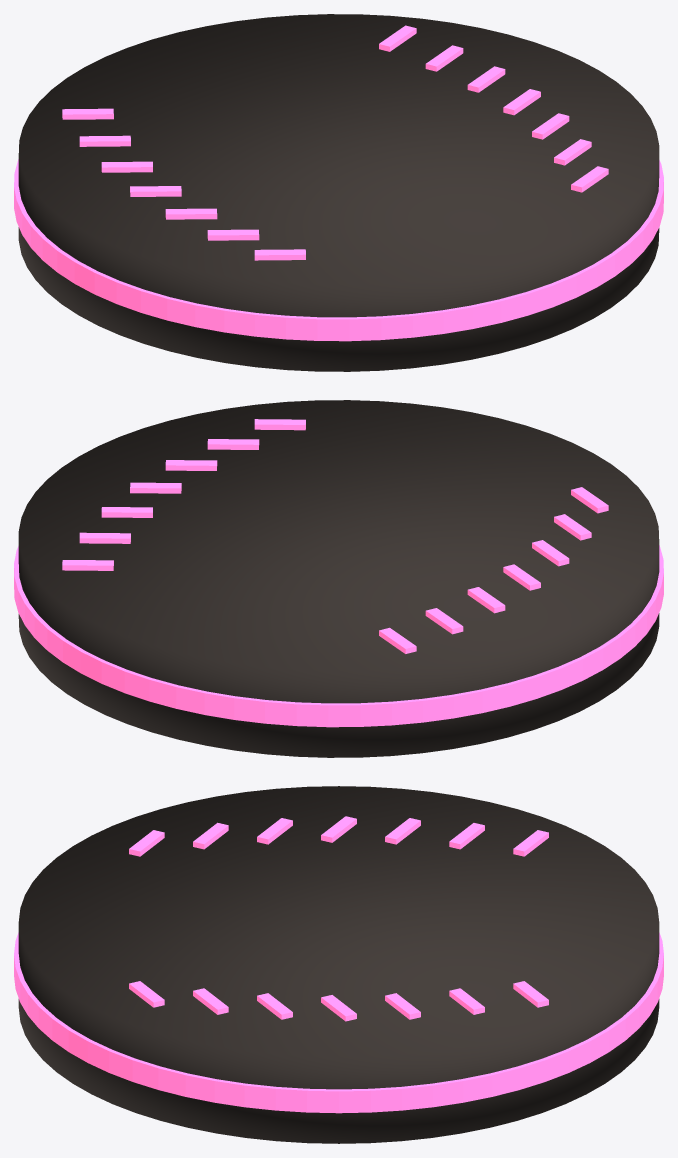
The model's file is disco_cyber_baseball.glb.
3 renders of one model, top to bottom at view 1: azimuth 30°, elevation 25°; view 2: azimuth 150°, elevation 25°; view 3: azimuth 270°, elevation 25°, orthographic.
Visible parts, largest first — view 1: Cylinder, Cylinder.001, Cube.002, Cube.001, Cube, Cube.004, Cube.006, Cube.005, Cube.003; view 2: Cylinder, Cylinder.001, Cube.010, Cube.007, Cube.012, Cube.008, Cube.009, Cube.013, Cube.011; view 3: Cylinder, Cylinder.001.
Part boxes in pixels (x1,y1,x2,y2): Cylinder: [18, 14, 659, 371]; Cylinder.001: [14, 159, 663, 341]; Cube.002: [165, 208, 217, 219]; Cube.001: [207, 229, 259, 240]; Cube: [254, 249, 305, 260]; Cube.004: [101, 161, 152, 172]; Cube.006: [62, 108, 113, 119]; Cube.005: [79, 135, 130, 146]; Cube.003: [130, 186, 181, 196]; Cylinder: [18, 400, 659, 757]; Cylinder.001: [14, 545, 663, 727]; Cube.010: [130, 482, 181, 493]; Cube.007: [254, 419, 305, 430]; Cube.012: [79, 532, 130, 543]; Cube.008: [207, 439, 259, 449]; Cube.009: [165, 460, 217, 470]; Cube.013: [62, 560, 113, 570]; Cube.011: [101, 507, 152, 517]; Cylinder: [18, 786, 659, 1143]; Cylinder.001: [14, 932, 663, 1113].
Bounding box in the file's own units: 0.1015 × 0.0159 × 0.1015.
